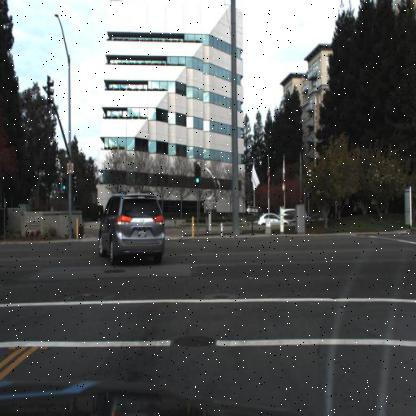car: (96, 190, 166, 270), (281, 205, 309, 229), (258, 211, 289, 230)
trafficLight-Green: (193, 147, 208, 196), (54, 174, 68, 204), (194, 160, 201, 188), (61, 177, 69, 196)
